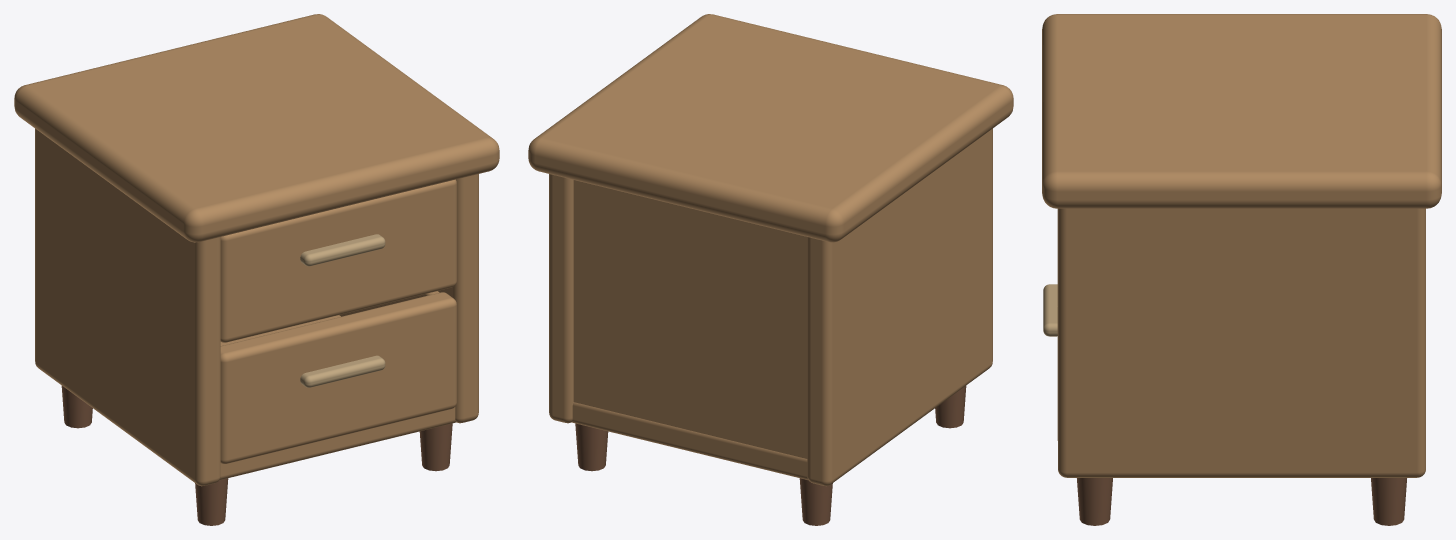
File: nightstand.glb
3 renders of one model, left to right at view 1: azimuth 30°, elevation 25°; view 2: azimuth 150°, elevation 25°; view 3: azimuth 270°, elevation 25°, orthographic. The views are drawn at different scales.
Visible parts, largest first — view 1: solid-rounded-worktop, joined-cabinet-side--1, drawer-0-front, drawer-1-front, joined-cabinet-side-1, joined-cabinet-base, drawer-0-pull, drawer-1-pull, cabinet-foot-1-1, cabinet-foot--1-1, cabinet-foot--1--1; view 2: solid-rounded-worktop, joined-cabinet-back, joined-cabinet-side--1, joined-cabinet-side-1, joined-cabinet-base, cabinet-foot-1--1, cabinet-foot--1--1, cabinet-foot--1-1; view 3: joined-cabinet-side-1, solid-rounded-worktop, cabinet-foot-1--1, cabinet-foot-1-1, drawer-0-pull.
Part boxes in pixels (box(x1,y1,x2,y2)): solid-rounded-worktop: box(14, 14, 499, 242); joined-cabinet-side--1: box(35, 128, 220, 486); drawer-0-front: box(220, 292, 456, 464); drawer-1-front: box(220, 179, 456, 342); joined-cabinet-side-1: box(339, 174, 478, 423); joined-cabinet-base: box(219, 315, 456, 480); drawer-0-pull: box(300, 355, 385, 387); drawer-1-pull: box(300, 234, 385, 266); cabinet-foot-1-1: box(419, 423, 452, 471); cabinet-foot--1-1: box(195, 478, 228, 525); cabinet-foot--1--1: box(61, 386, 92, 428); solid-rounded-worktop: box(528, 14, 1013, 242); joined-cabinet-back: box(573, 180, 807, 458); joined-cabinet-side--1: box(807, 128, 992, 486); joined-cabinet-side-1: box(549, 174, 573, 423); joined-cabinet-base: box(571, 402, 808, 480); cabinet-foot-1--1: box(575, 423, 608, 471); cabinet-foot--1--1: box(799, 478, 832, 525); cabinet-foot--1-1: box(935, 386, 966, 428); joined-cabinet-side-1: box(1058, 208, 1425, 477); solid-rounded-worktop: box(1042, 14, 1441, 208); cabinet-foot-1--1: box(1371, 478, 1406, 525); cabinet-foot-1-1: box(1077, 478, 1112, 525); drawer-0-pull: box(1043, 284, 1057, 336).
Bounding box in the file's own units: 0.7 × 0.7071 × 0.7.
